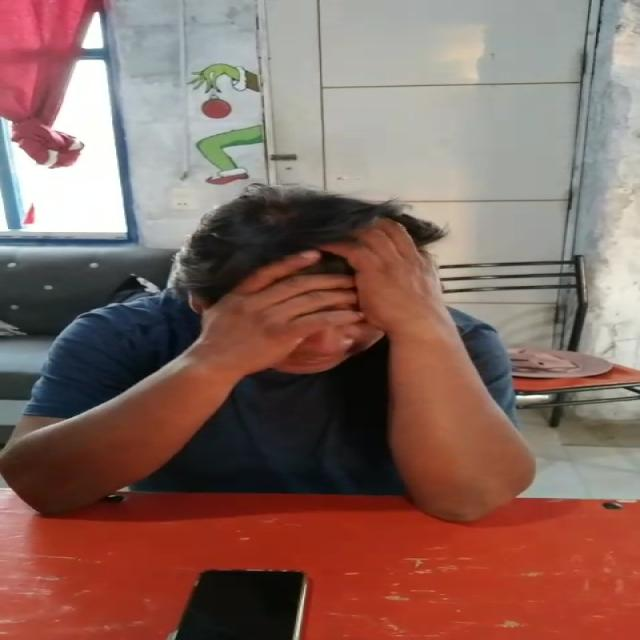7_mano_rostro: (189, 218, 398, 411)
